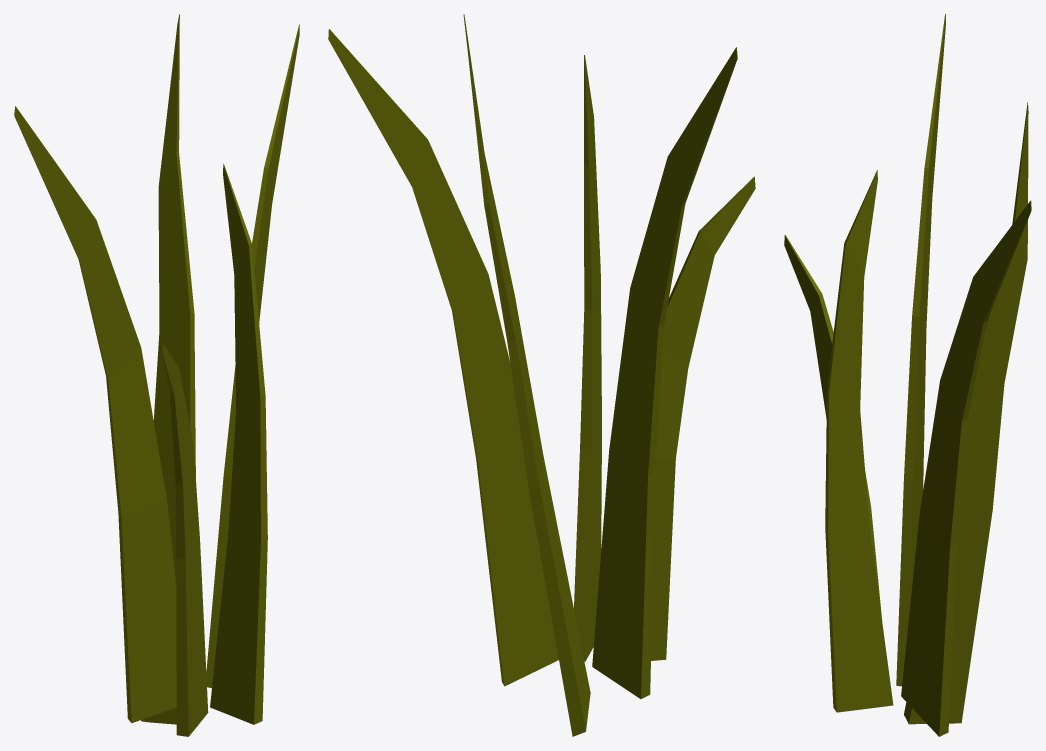
File: PrairieGrass(3).fbx
The picture shows the model from 3 angles, left to right: view 1: azimuth 30°, elevation 25°; view 2: azimuth 150°, elevation 25°; view 3: azimuth 270°, elevation 25°; orthographic projection. The views are drawn at different scales.
Visible parts, largest first — view 1: PrairieGrass(3); view 2: PrairieGrass(3); view 3: PrairieGrass(3).
Part boxes in pixels (x1,y1,x2,y2): PrairieGrass(3): [14, 14, 299, 736]; PrairieGrass(3): [328, 14, 755, 736]; PrairieGrass(3): [784, 14, 1031, 736].
Size of the model in its own units: 0.7982 by 1.55 by 0.5317.
